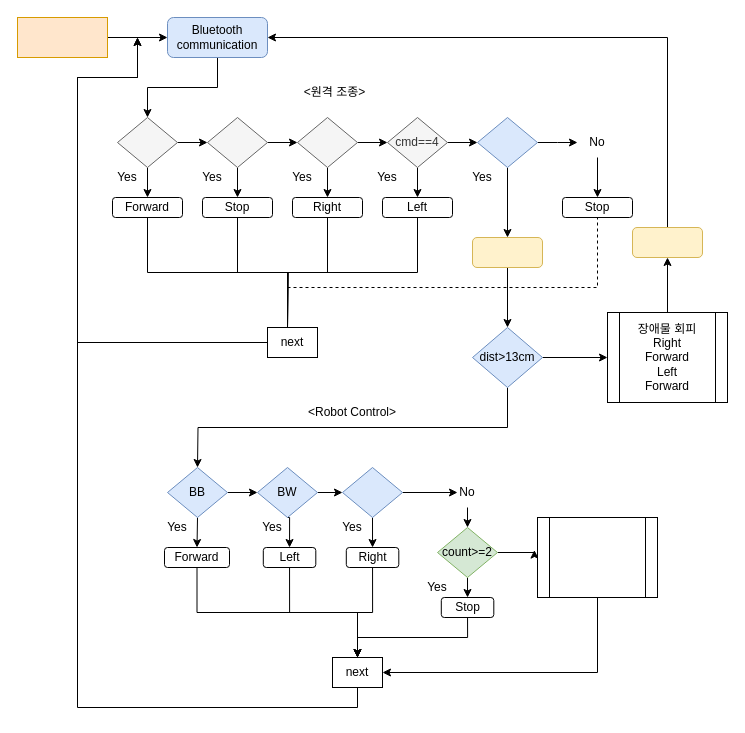
This 745x733 diagram has some shape labels left out. The shapes that lost their labels are listed below. From the top down, each one's centre as x and y in pixels, then its label:
At [62,37]: "start".
At [147,142]: "cmd==1".
At [237,142]: "cmd==2".
At [327,142]: "cmd==3".
At [507,142]: "cmd==5".
At [507,252]: "Read Sensors".
At [667,242]: "Find Line".
At [372,492]: "WB".
At [597,557]: "라인 찾기 Forward Find Line count++".
